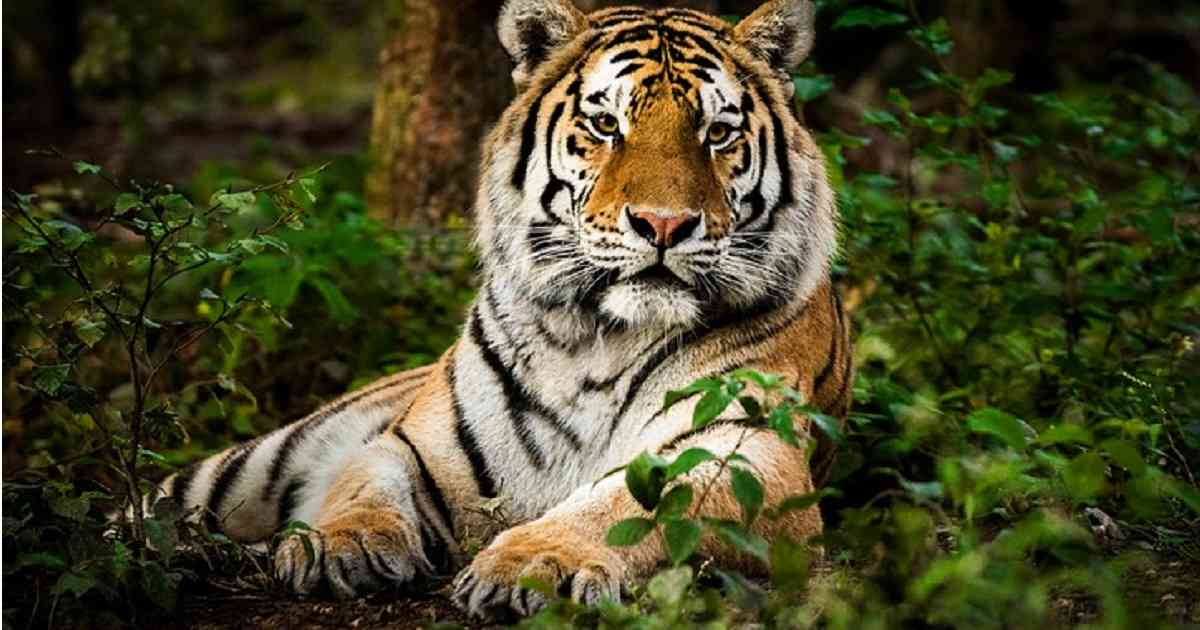Tigrew: (430, 11, 899, 604)
